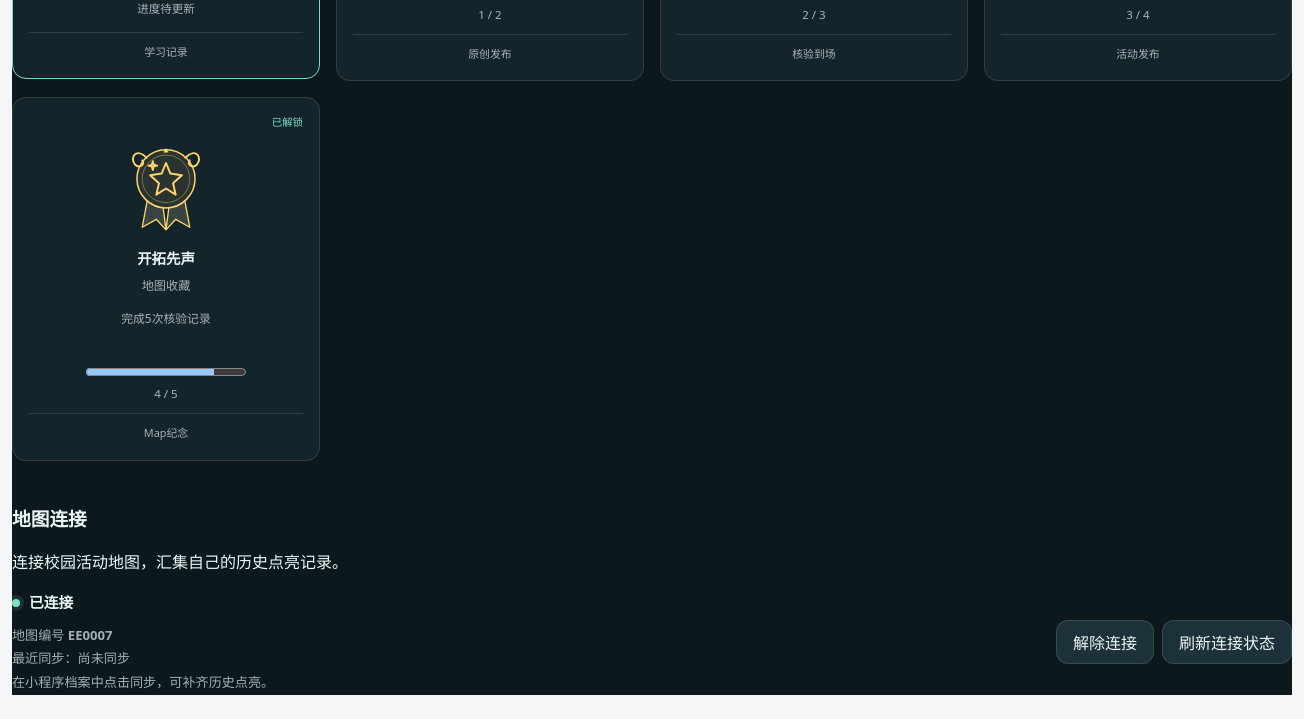
it: AchievementAtlasPanel › requires explicit unlink confirmation and reloads retained achievements afterward
The width and height of the screenshot is (1304, 719).
(page scrolled)
Step 1. Click the button "解除连接" → x=1105, y=642, box [1056,620,1154,664]
(page scrolled)
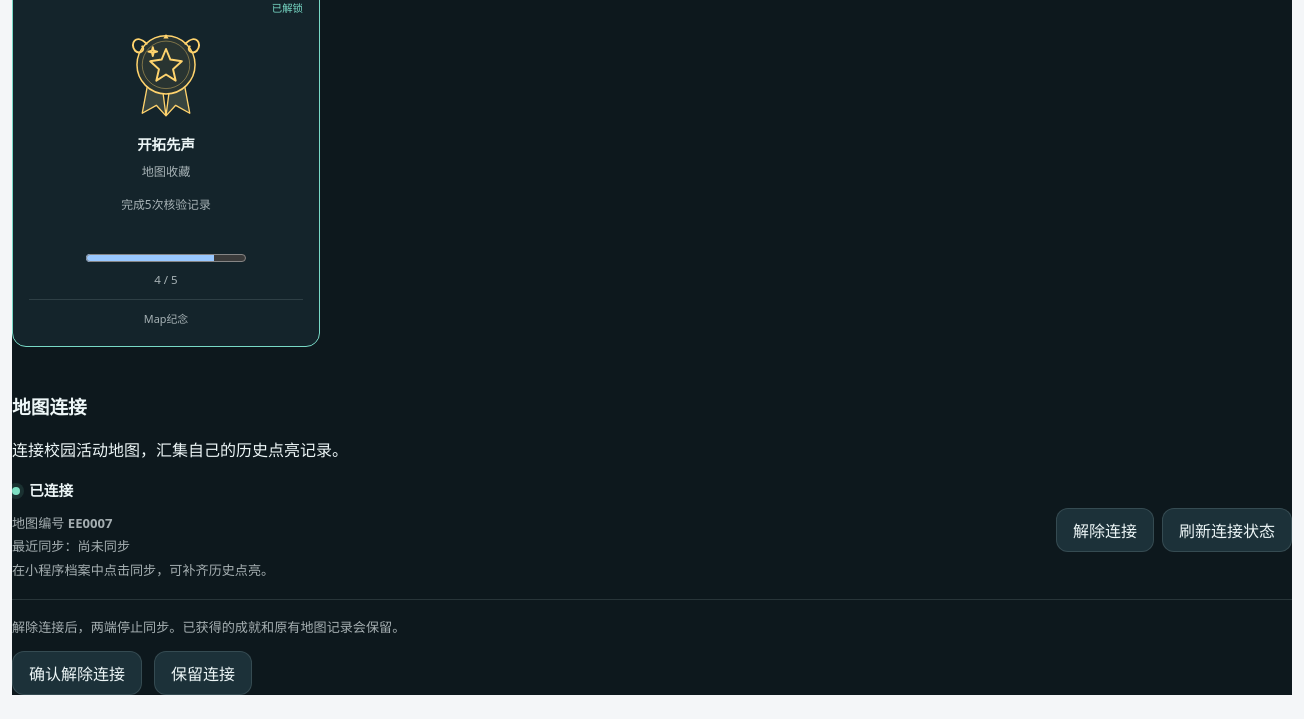
Step 2. Click the button "确认解除连接" → x=77, y=673, box [12,651,142,695]
(page scrolled)
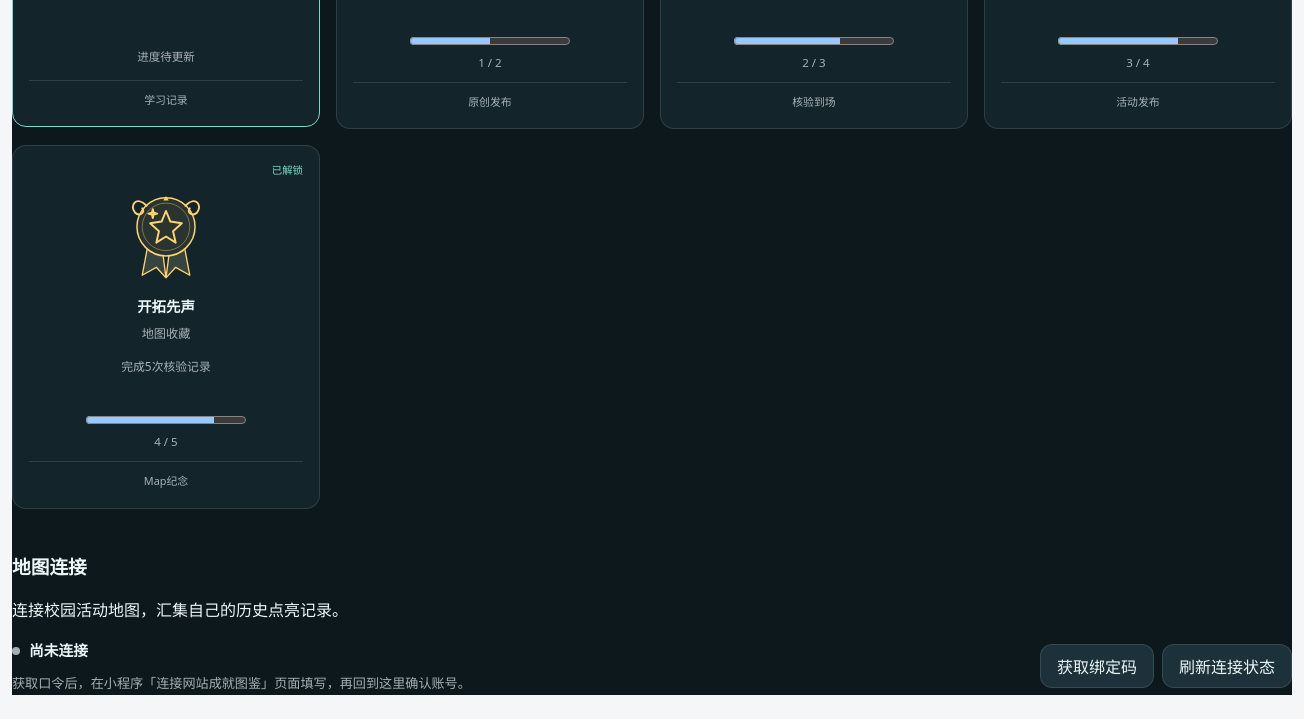
Check: the button with aria-label "开拓先声 查看详情" is shown, box [12,145,320,509]
Check: the text "尚未连接" is shown, box [12,640,88,660]
